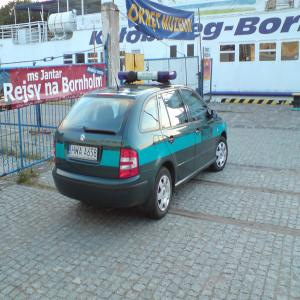Vehicle-registration-plate: (69, 144, 99, 161)
